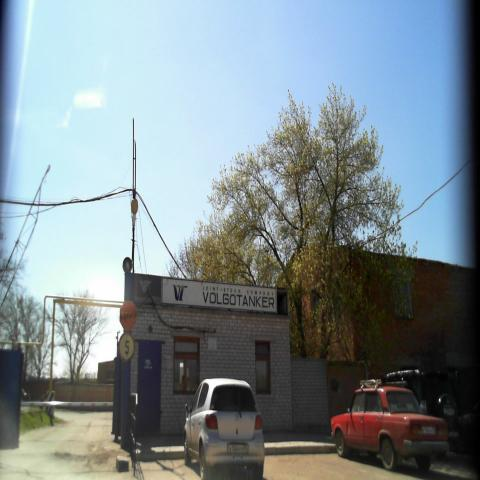2_5: (118, 297, 136, 332)
3_24: (118, 332, 136, 363)
